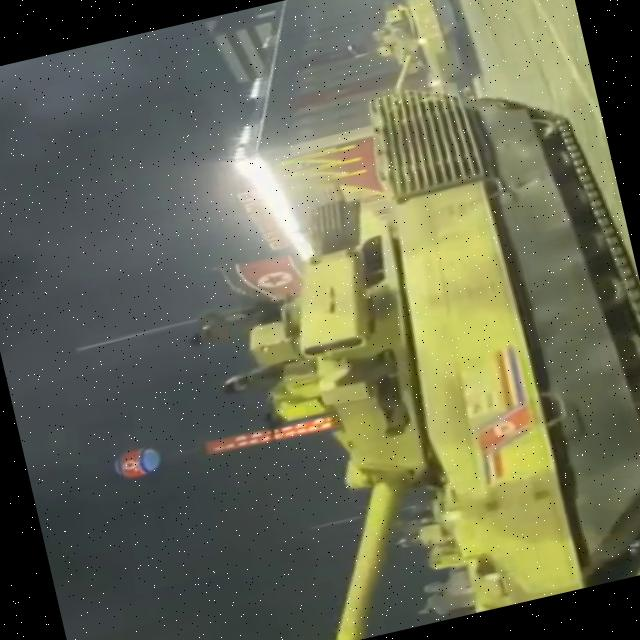north tank: (148, 54, 640, 640), (312, 0, 540, 135)
